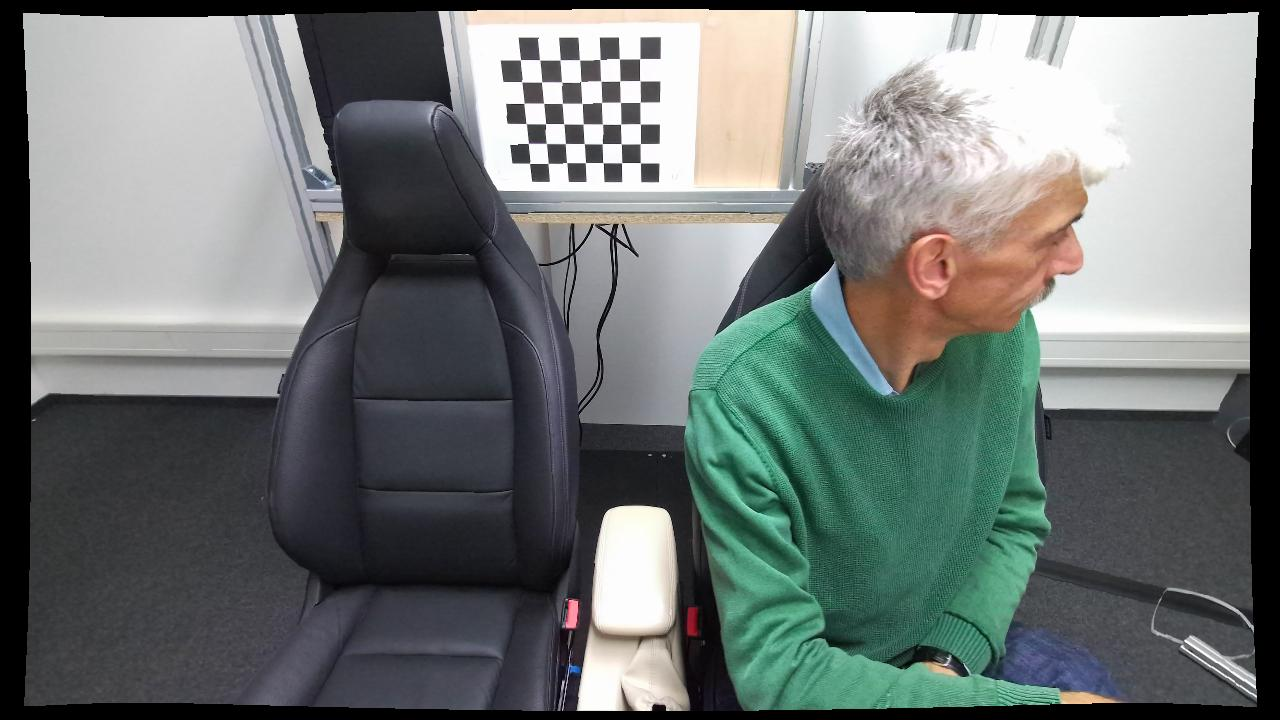Distracted: (688, 54, 1146, 714)
